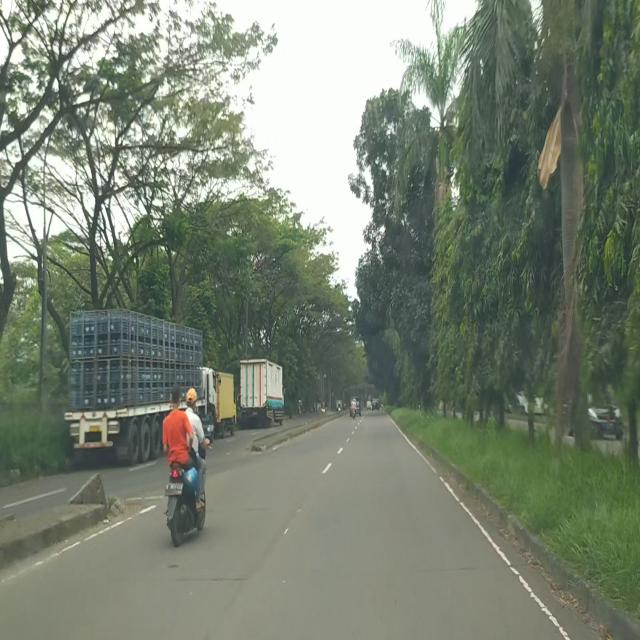Sewer Cover: (169, 576, 249, 584)
